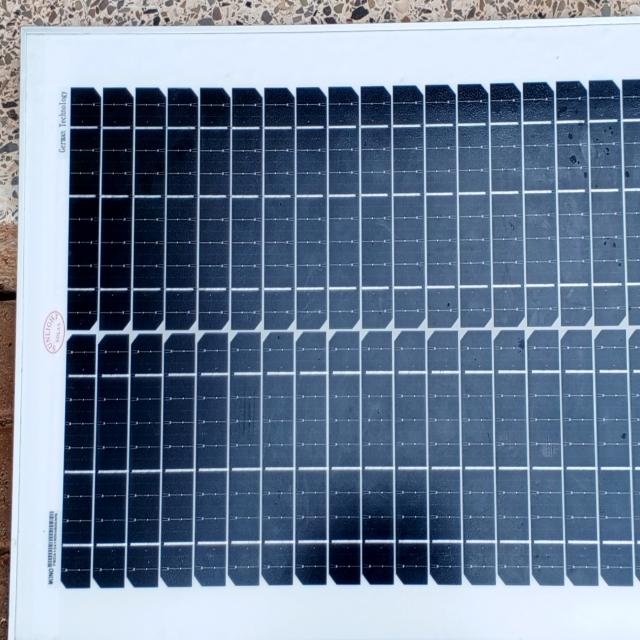Clean: (14, 15, 637, 618)
